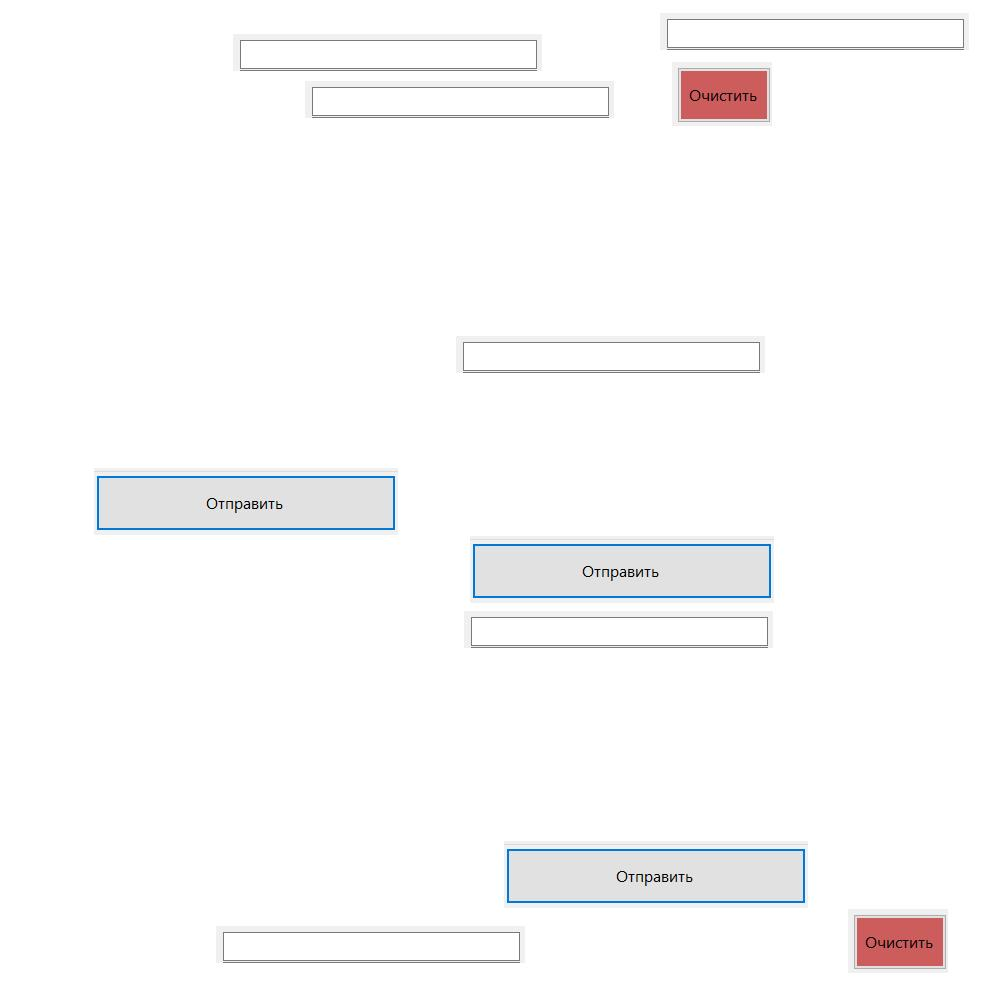Button: (504, 841, 808, 908), (94, 468, 398, 535), (470, 536, 774, 603), (848, 909, 948, 973), (672, 62, 772, 126)
EditText-: (305, 81, 614, 118), (660, 13, 969, 50), (233, 34, 542, 71), (464, 611, 773, 648), (456, 336, 765, 373), (216, 926, 525, 963)
